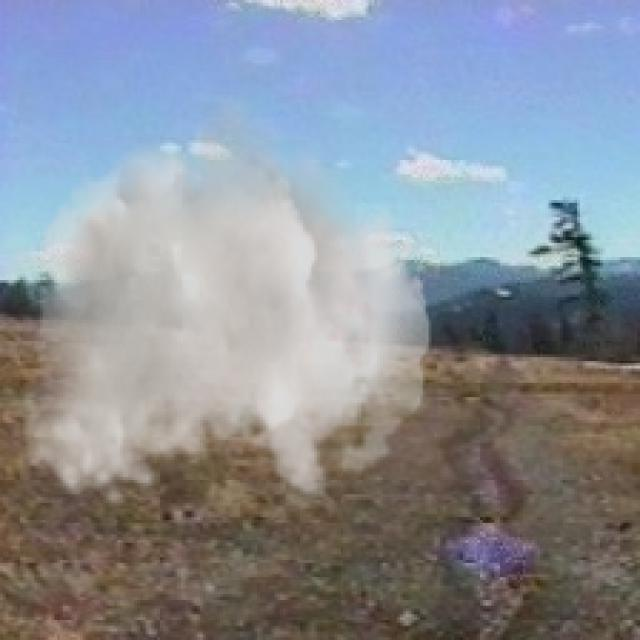smoke: (20, 91, 431, 508)
